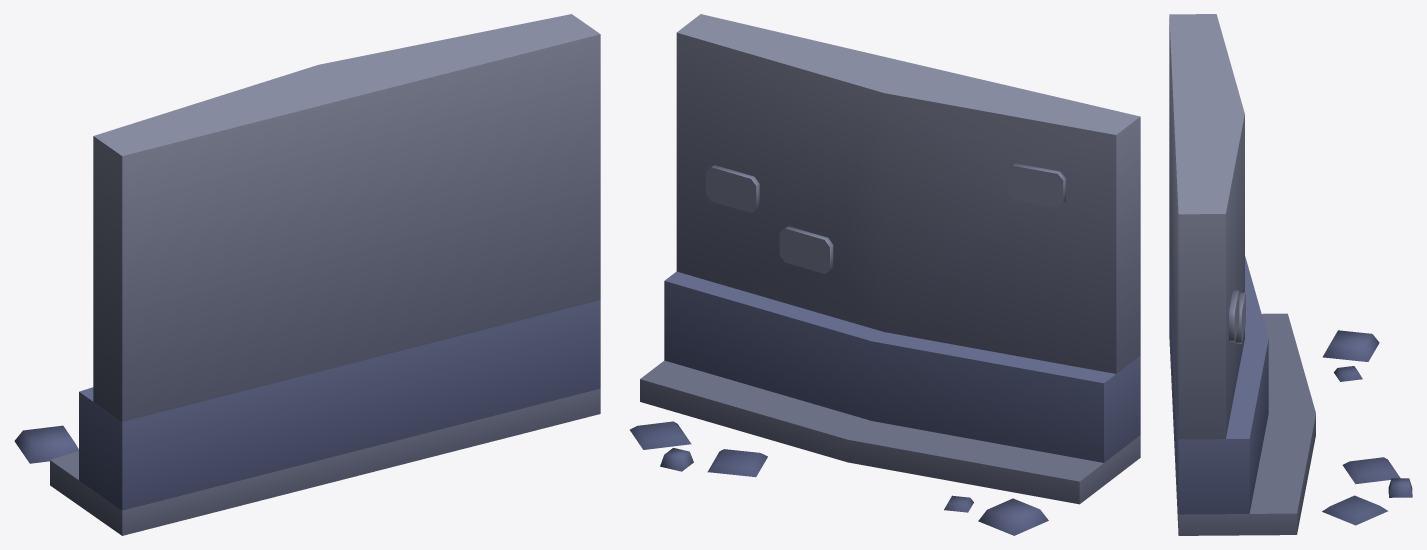
File: template-wall.008_lev1.glb
3 views of the same model, side by side, from view 1: azimuth 30°, elevation 25°; view 2: azimuth 150°, elevation 25°; view 3: azimuth 270°, elevation 25° (orthographic). The views are drawn at different scales.
Visible parts, largest first — view 1: template-wall.008_lev1; view 2: template-wall.008_lev1; view 3: template-wall.008_lev1.
Boxes of the visible parts, x1,y1,x2,y2 form: template-wall.008_lev1: (14,14,600,535); template-wall.008_lev1: (630,14,1140,535); template-wall.008_lev1: (1169,14,1412,535).
Bounding box in the file's own units: 7.1 × 5.3 × 3.63.
Materials: 1 (1 with a texture image).
